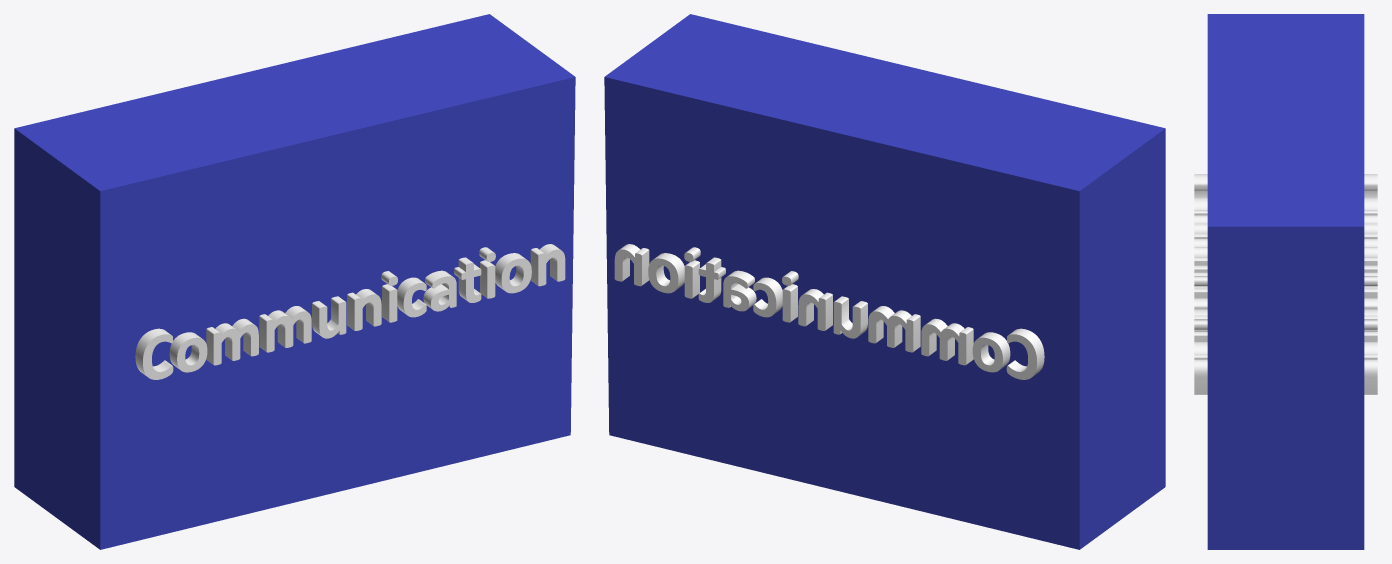
File: commodel.fbx
3 views of the same model, side by side, from view 1: azimuth 30°, elevation 25°; view 2: azimuth 150°, elevation 25°; view 3: azimuth 270°, elevation 25° (orthographic). The views are drawn at different scales.
Visible parts, largest first — view 1: root, node_id45; view 2: root, node_id45; view 3: root, node_id45.
Boxes of the visible parts, x1,y1,x2,y2 form: root: (14, 14, 575, 549); node_id45: (135, 244, 565, 379); root: (604, 14, 1165, 549); node_id45: (614, 244, 1044, 379); root: (1207, 14, 1364, 549); node_id45: (1194, 174, 1377, 394).
Bounding box in the file's own units: 0.1458 × 0.1051 × 0.0535.
